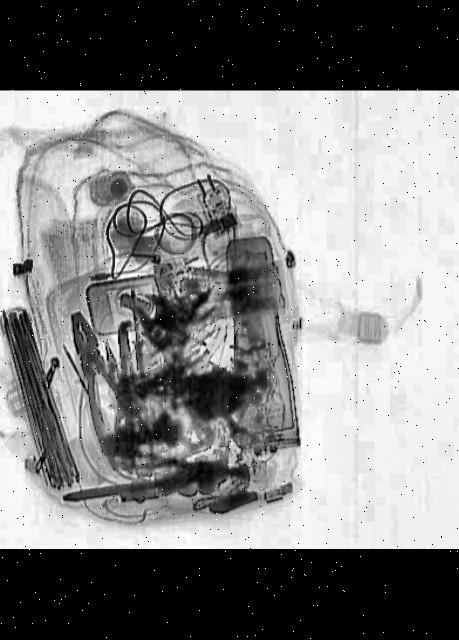Pliers: (55, 307, 152, 474)
